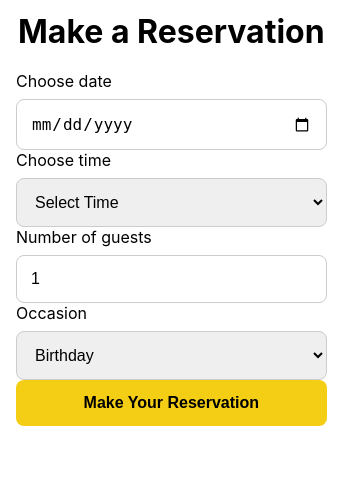
BookingForm › validates date field when empty
Click the button "Make Your Reservation".
click(171, 403)  # box [16, 380, 327, 426]
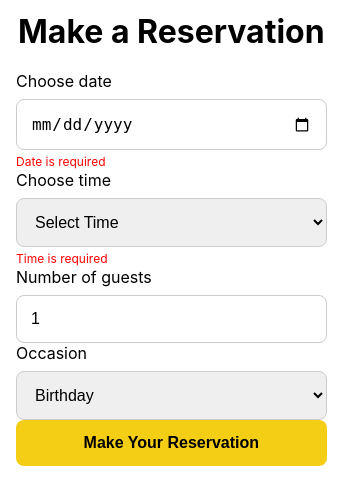
Result: the text "Date is required" is shown at [16, 154, 106, 169]
